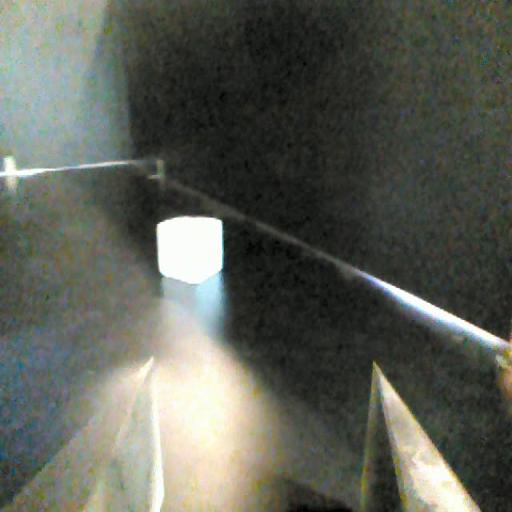cube: (151, 208, 228, 287)
